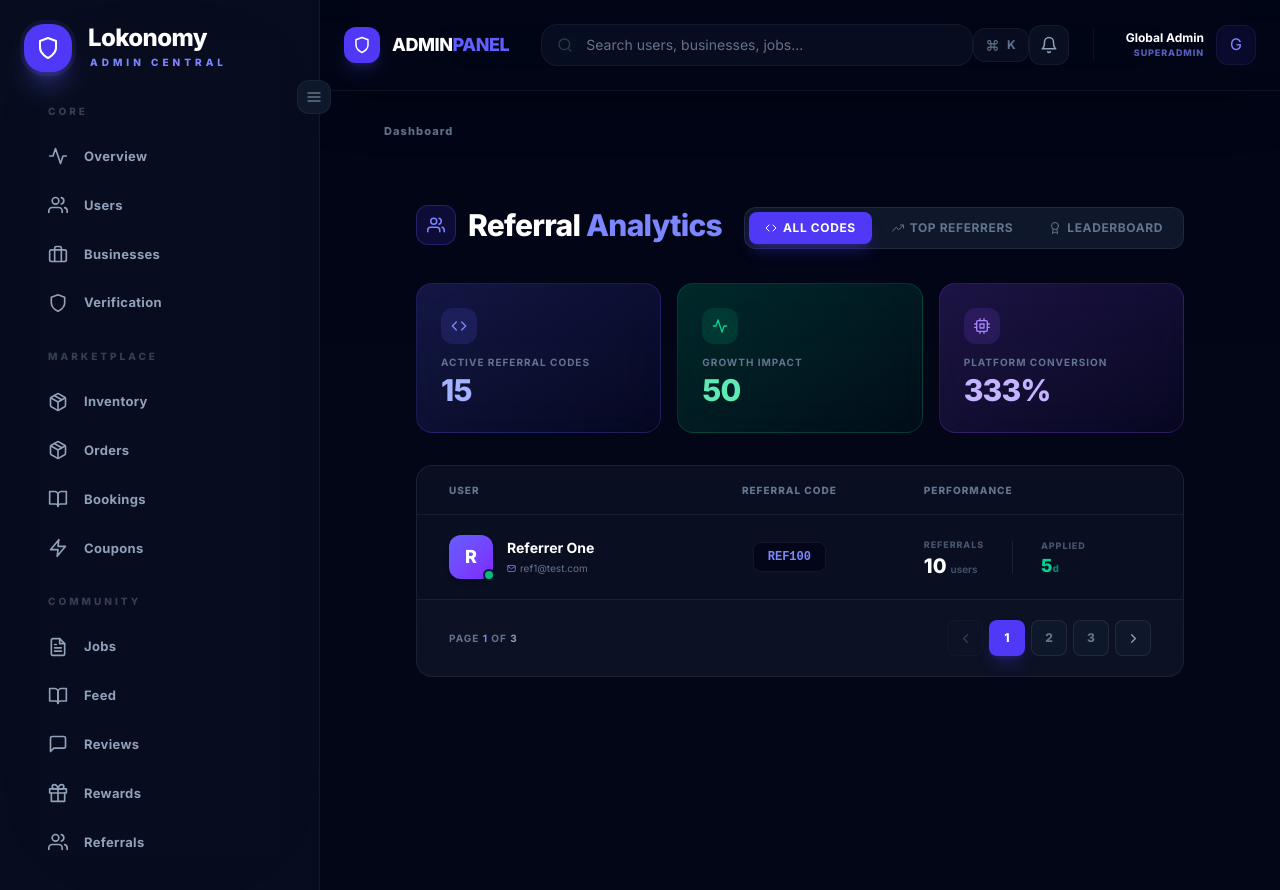
Test: AdminReferrals Page › switches to leaderboard tab and renders ranks
Click the button "Leaderboard" at (1106, 228), box 1033,212 -> 1179,244
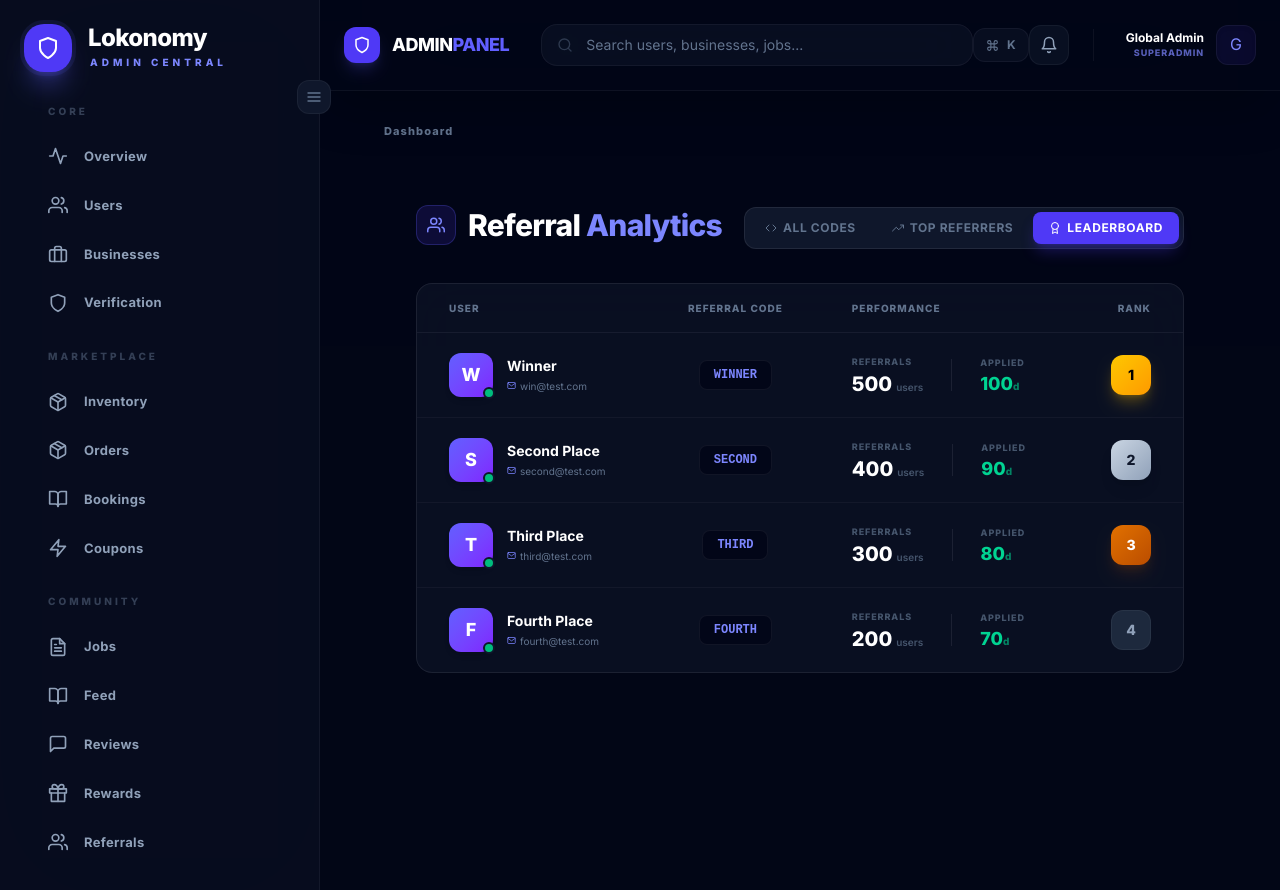
Expected: the text "1" is shown, 1111,355 -> 1151,395
Expected: the text "Winner" is shown, 507,357 -> 557,374
Expected: the text "4" is shown, 1111,610 -> 1151,650
